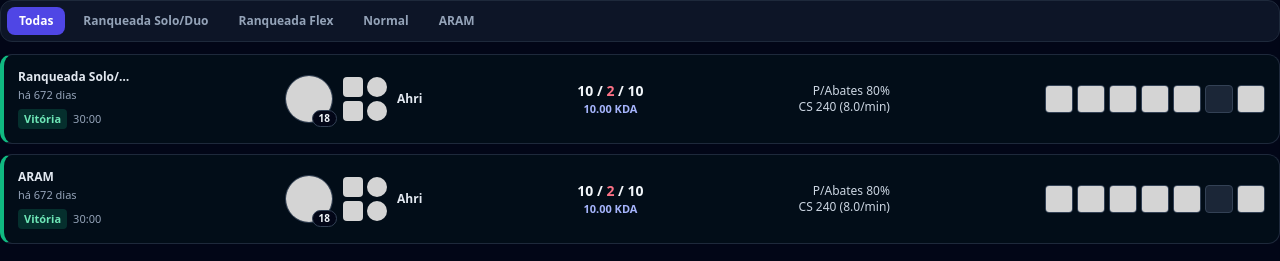
Test case: MatchHistory › HIST-02 renders all 5 queue tabs with Todas selected by default
This screenshot has width=1280, height=261.
Expected: the tab with test id "history-tab-all" reads "Todas", [7,7,65,35]
Expected: the tab with test id "history-tab-solo" reads "Ranqueada Solo/Duo", [71,7,220,35]
Click the tab with test id "history-tab-aram": (457, 21) [427,7,486,35]
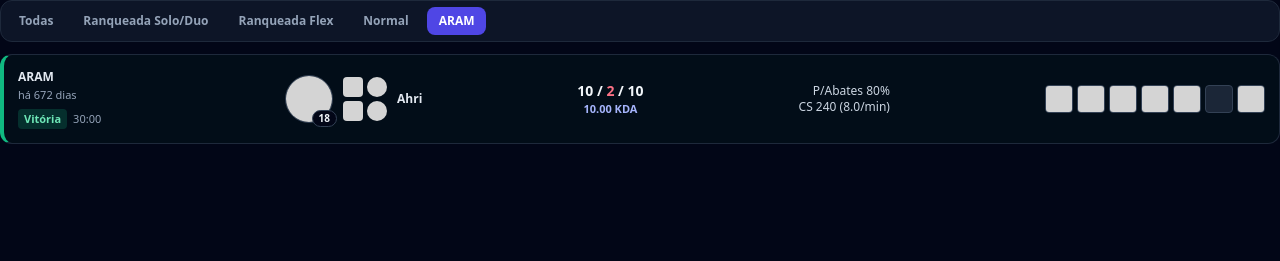
Expected: the element with test id "match-card-BR1_ARAM" is shown, [0,54,1279,144]
Now the element with test id "match-card-BR1_SOLO" is gone
